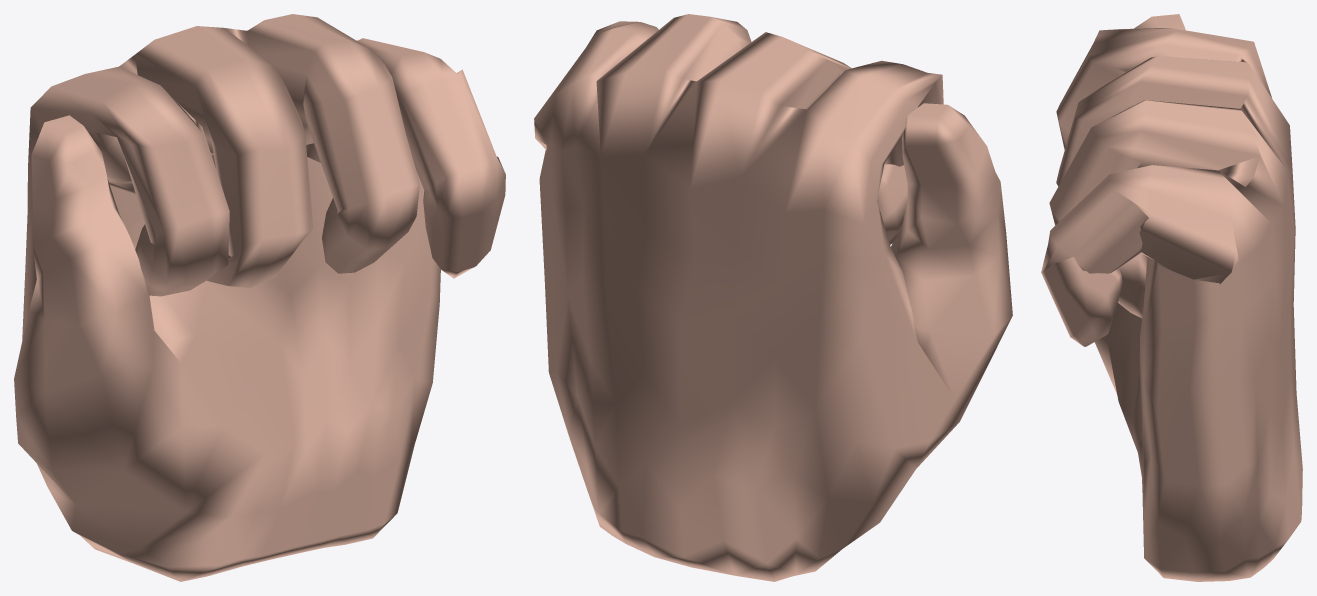
The model's file is MAO_A.obj.
3 views of the same model, side by side, from view 1: azimuth 30°, elevation 25°; view 2: azimuth 150°, elevation 25°; view 3: azimuth 270°, elevation 25° (orthographic). The views are drawn at different scales.
Visible parts, largest first — view 1: mao_dir polySurface1; view 2: mao_dir polySurface1; view 3: mao_dir polySurface1.
Boxes of the visible parts, x1=… form: mao_dir polySurface1: x1=14, y1=14, x2=505, y2=581; mao_dir polySurface1: x1=534, y1=14, x2=1012, y2=581; mao_dir polySurface1: x1=1041, y1=14, x2=1302, y2=581.
Size of the model in its own units: 136 by 151 by 78.56.
